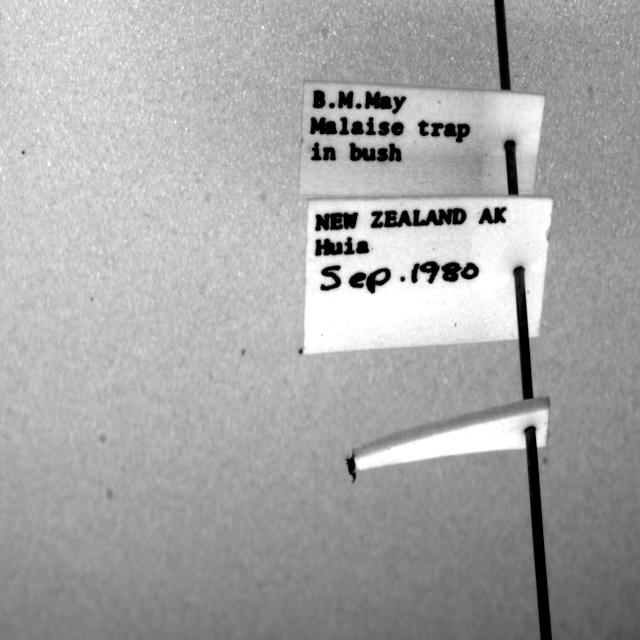mixed_label: (304, 197, 552, 354)
typed_label: (299, 81, 545, 197)
